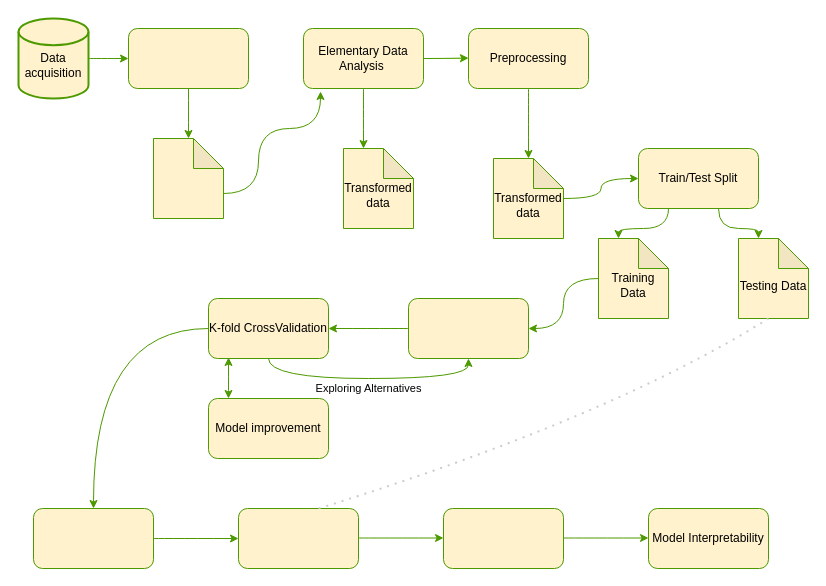
Image size: 826x586. Some labels were removed from this diagram. The centre of each missing label's shape, as x and y in pixels:
"Clean Data" belongs at (188,178).
"Data clean up" belongs at (188,58).
"Model building" belongs at (468,328).
"Selecting best model" belongs at (93,538).
"Shap Value" belongs at (503,538).
"Using test data for metric measurement" belongs at (298,538).
